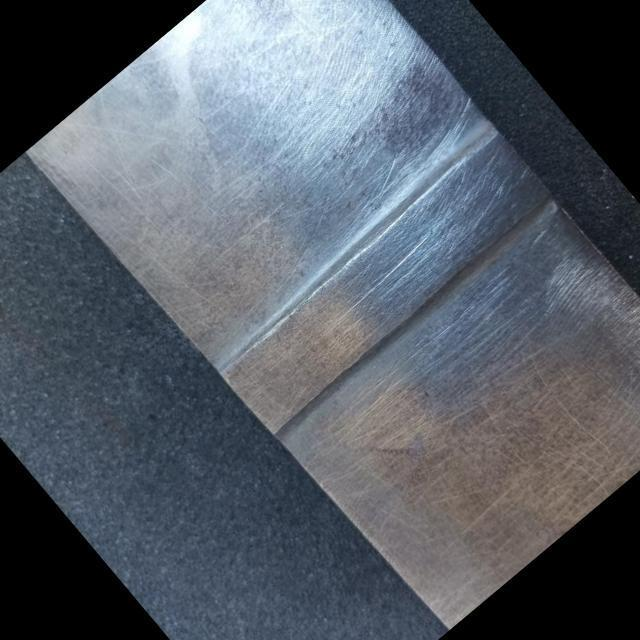defect: (329, 232, 427, 325)
